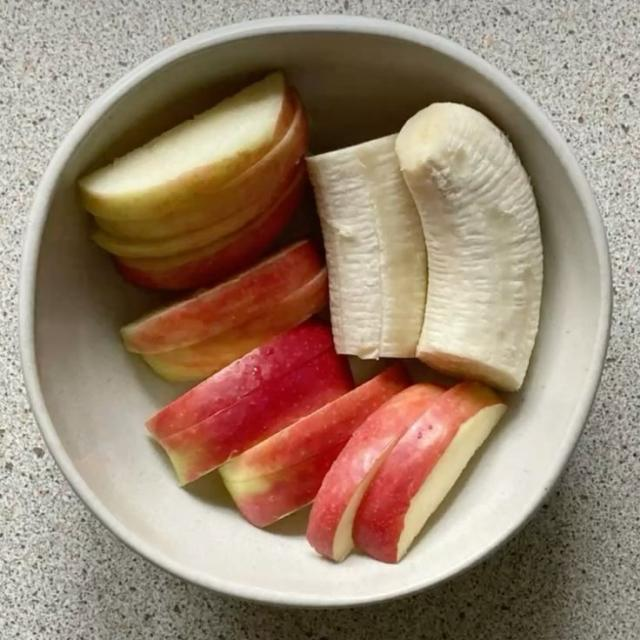apple: (96, 97, 307, 256), (80, 73, 295, 219), (220, 364, 410, 526), (354, 382, 506, 562), (159, 347, 353, 484), (307, 384, 444, 561), (115, 165, 306, 289), (121, 240, 323, 353), (147, 320, 333, 439), (141, 268, 328, 380)
banana slice: (396, 103, 543, 390), (307, 134, 426, 358)
